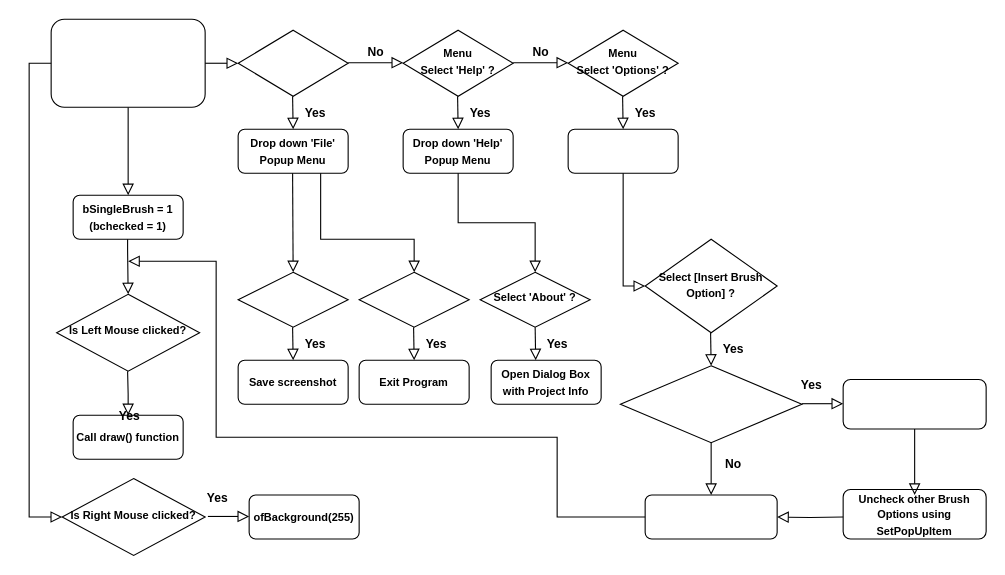
Image size: 1005x575. Some labels were removed from this diagram. The centre of each missing label's shape, as x and y in pixels:
"b[OtherBrushOptions] = !b[OtherBrushOptions]" goes at [914,403].
"bChecked = 1 (Current Option is checked)" goes at [710,516].
"Drop down 'Options' Popup Menu" goes at [622,150].
"Menu Select 'File' ?" goes at [292,62].
"Other Brush Options are checked?" goes at [710,404].
"Prepare Setup (Open window with title, dialog menu, and canvas)" goes at [127,62].
"Select 'Exit' ?" goes at [413,299].
"Select 'Save' ?" goes at [292,299].
